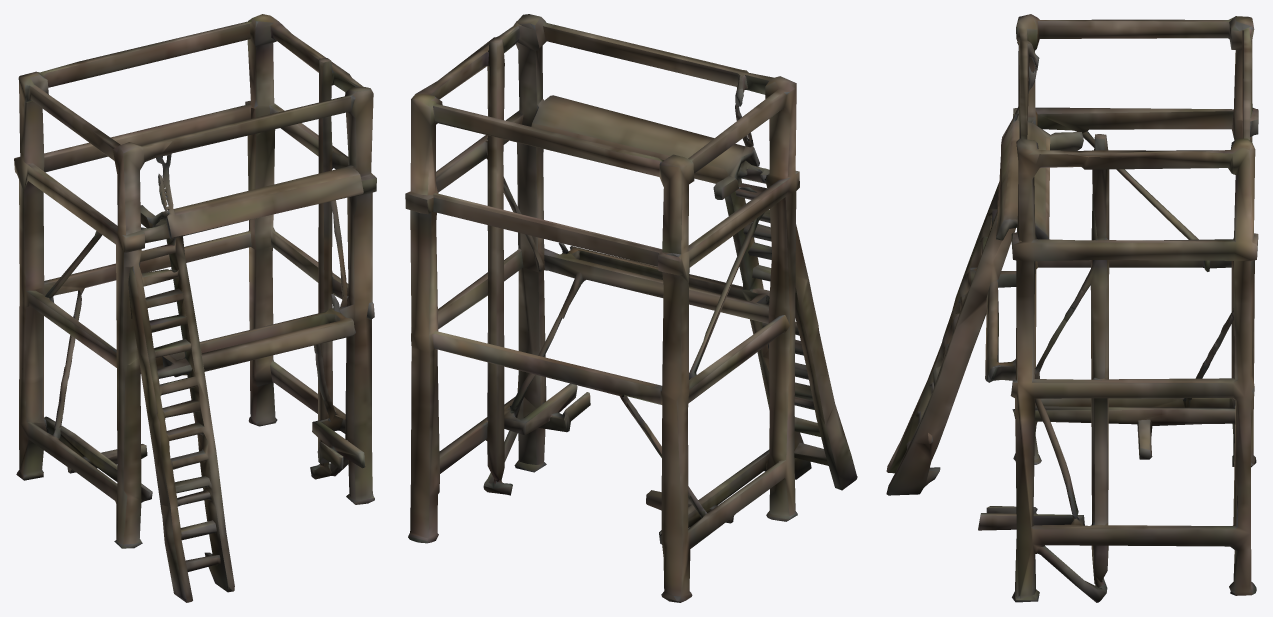
The model's file is sturdy-wood-scaffold-tower-v002.glb.
3 renders of one model, left to right at view 1: azimuth 30°, elevation 25°; view 2: azimuth 150°, elevation 25°; view 3: azimuth 270°, elevation 25°, orthographic. The views are drawn at different scales.
Visible parts, largest first — view 1: sturdy-wood-scaffold-tower; view 2: sturdy-wood-scaffold-tower; view 3: sturdy-wood-scaffold-tower.
Part boxes in pixels (<box>): sturdy-wood-scaffold-tower: <box>14,14,376,602</box>; sturdy-wood-scaffold-tower: <box>405,14,857,602</box>; sturdy-wood-scaffold-tower: <box>886,14,1258,602</box>.
Bounding box in the file's own units: 1.98 × 3.06 × 2.24.
Materials: 1 (1 with a texture image).
